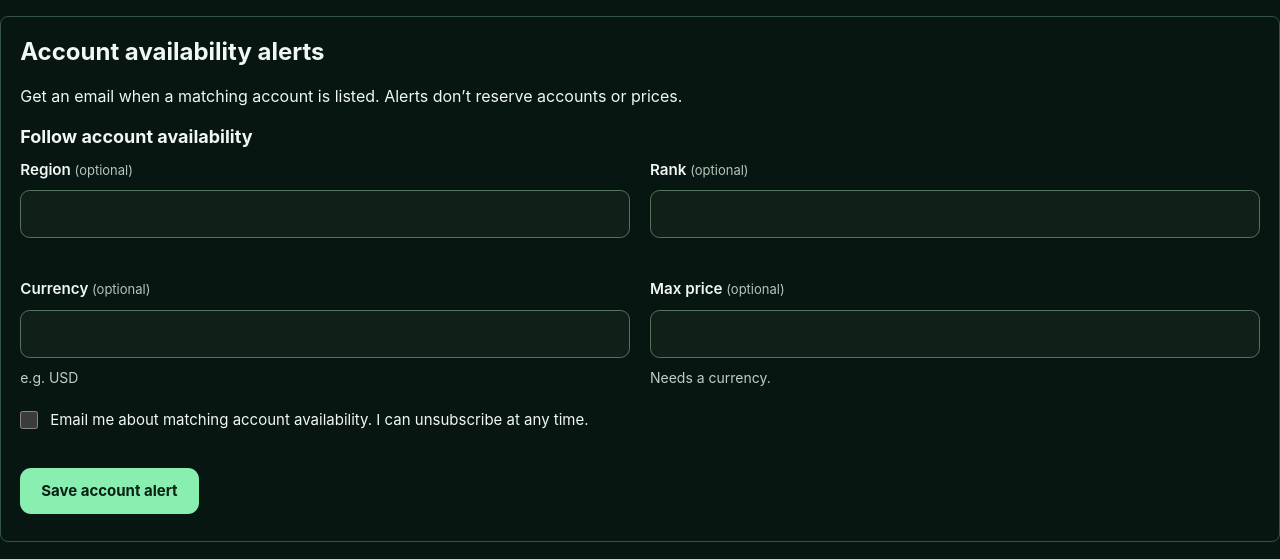
Test: saves explicit account criteria with exact minor units and separate email consent
This screenshot has width=1280, height=559.
Type "EU" into the field labelled "Region (optional)".
click(325, 214); type("EU")  # box [20,190,630,238]
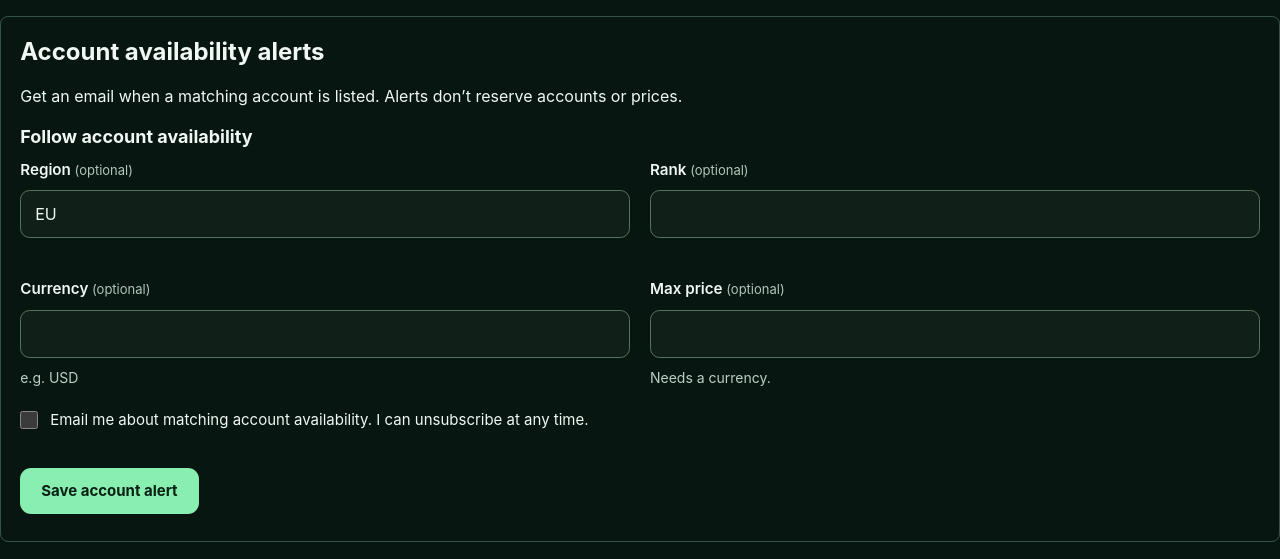
Type "usd" into the field labelled "Currency (optional)".
click(325, 334); type("usd")  # box [20,310,630,358]
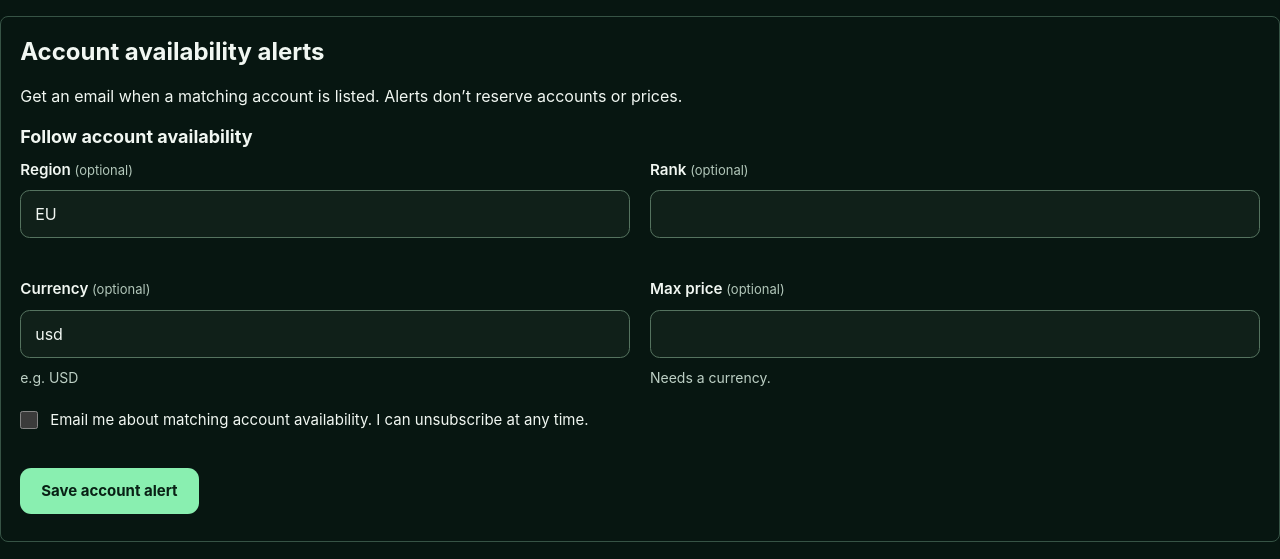
Type "19.01" into the field labelled "Max price (optional)".
click(955, 334); type("19.01")  # box [650,310,1260,358]
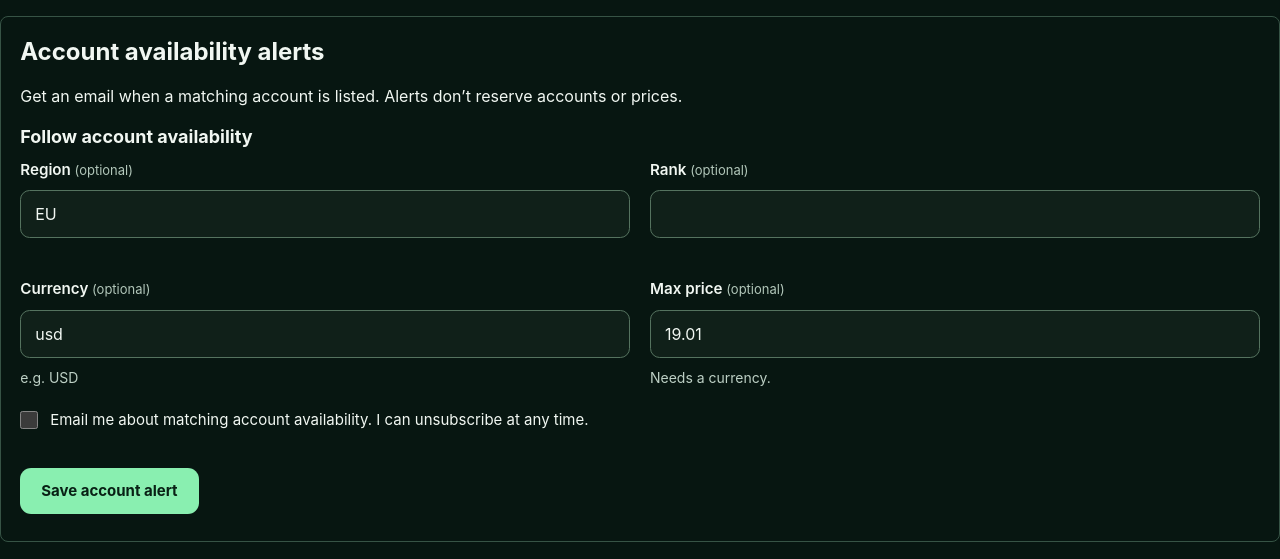
Click the checkbox.
click(29, 420)  # box [20,411,38,429]
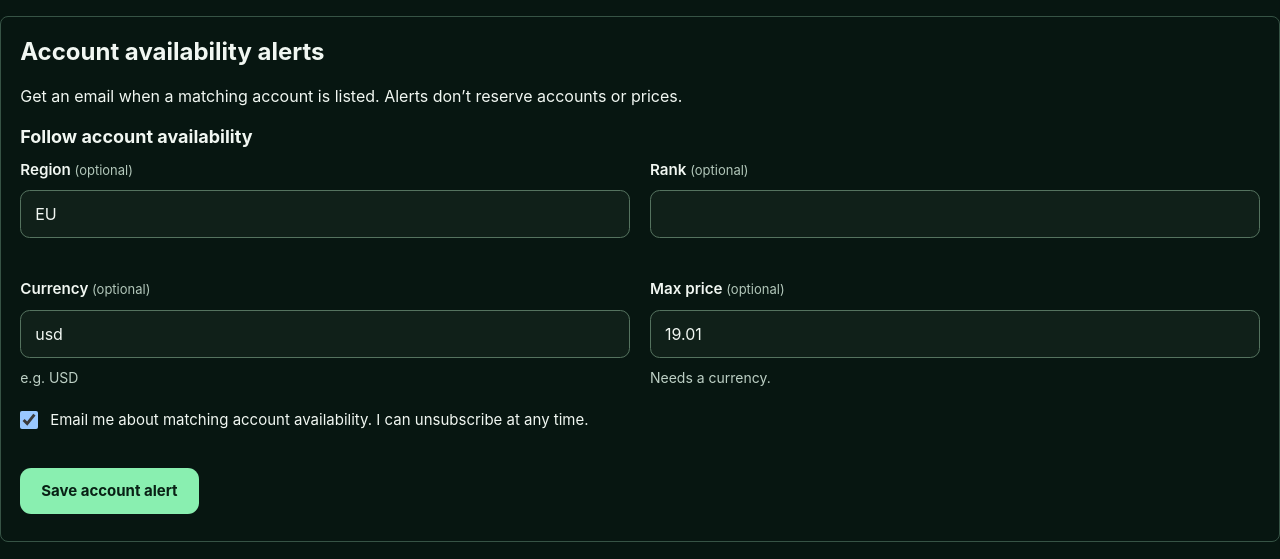
Click the button "Save account alert".
click(109, 491)  # box [20,468,199,514]
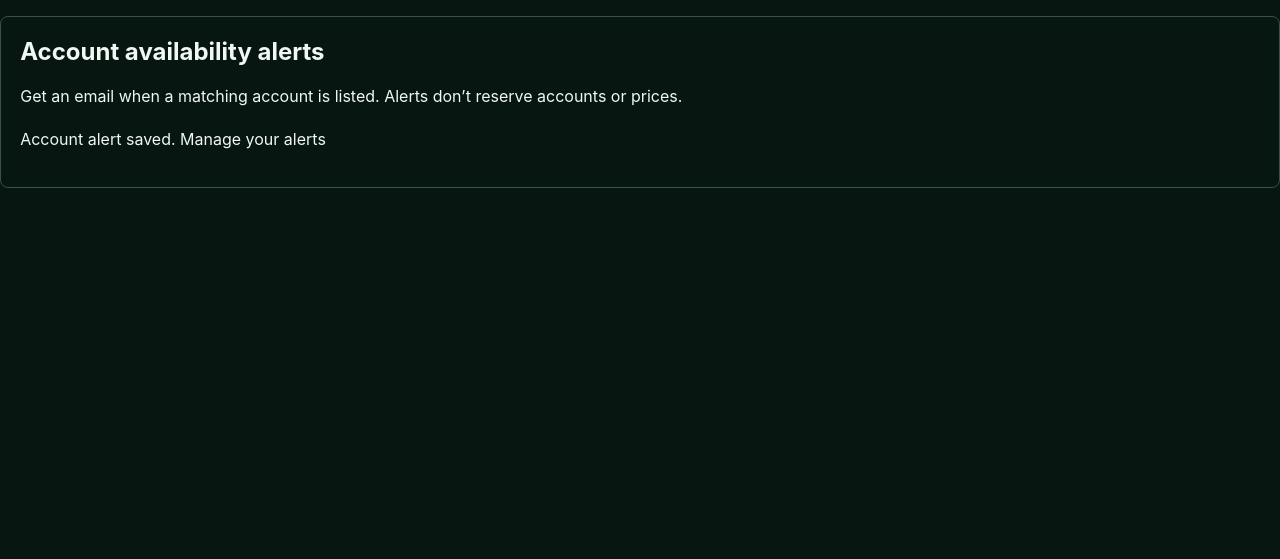
Expected: the text "Account alert saved. Manage your alerts" is shown, [20,129,326,149]
